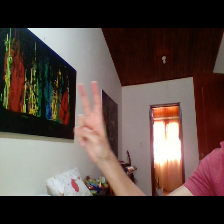KP: (72, 79, 114, 164)
